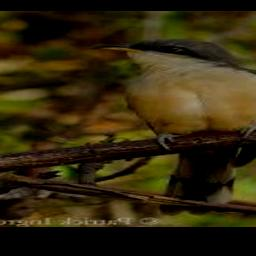Cuckoo: (92, 40, 256, 215)
